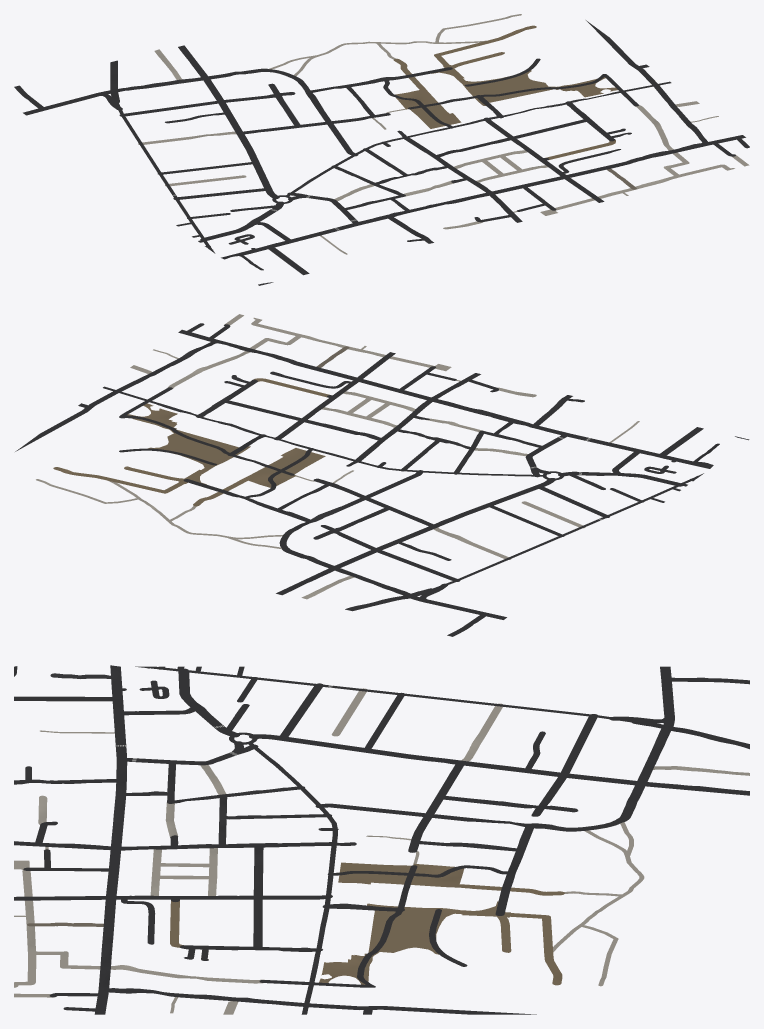
The model's file is roads.glb.
3 views of the same model, one above another, from view 1: azimuth 30°, elevation 25°; view 2: azimuth 150°, elevation 25°; view 3: azimuth 270°, elevation 25° (orthographic). The views are drawn at different scales.
Visible parts, largest first — view 1: T_E1_N7_roads; view 2: T_E1_N7_roads; view 3: T_E1_N7_roads.
Part boxes in pixels (x1,y1,x2,y2): T_E1_N7_roads: (14,14,749,285); T_E1_N7_roads: (15,314,749,636); T_E1_N7_roads: (14,665,749,1014).
Bounding box in the file's own units: 500 × 3.94 × 445.
